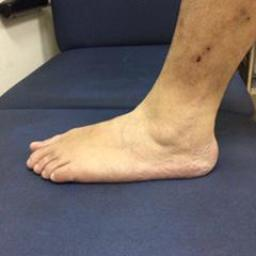Lateral View -Left Foot-: (20, 75, 236, 192)
